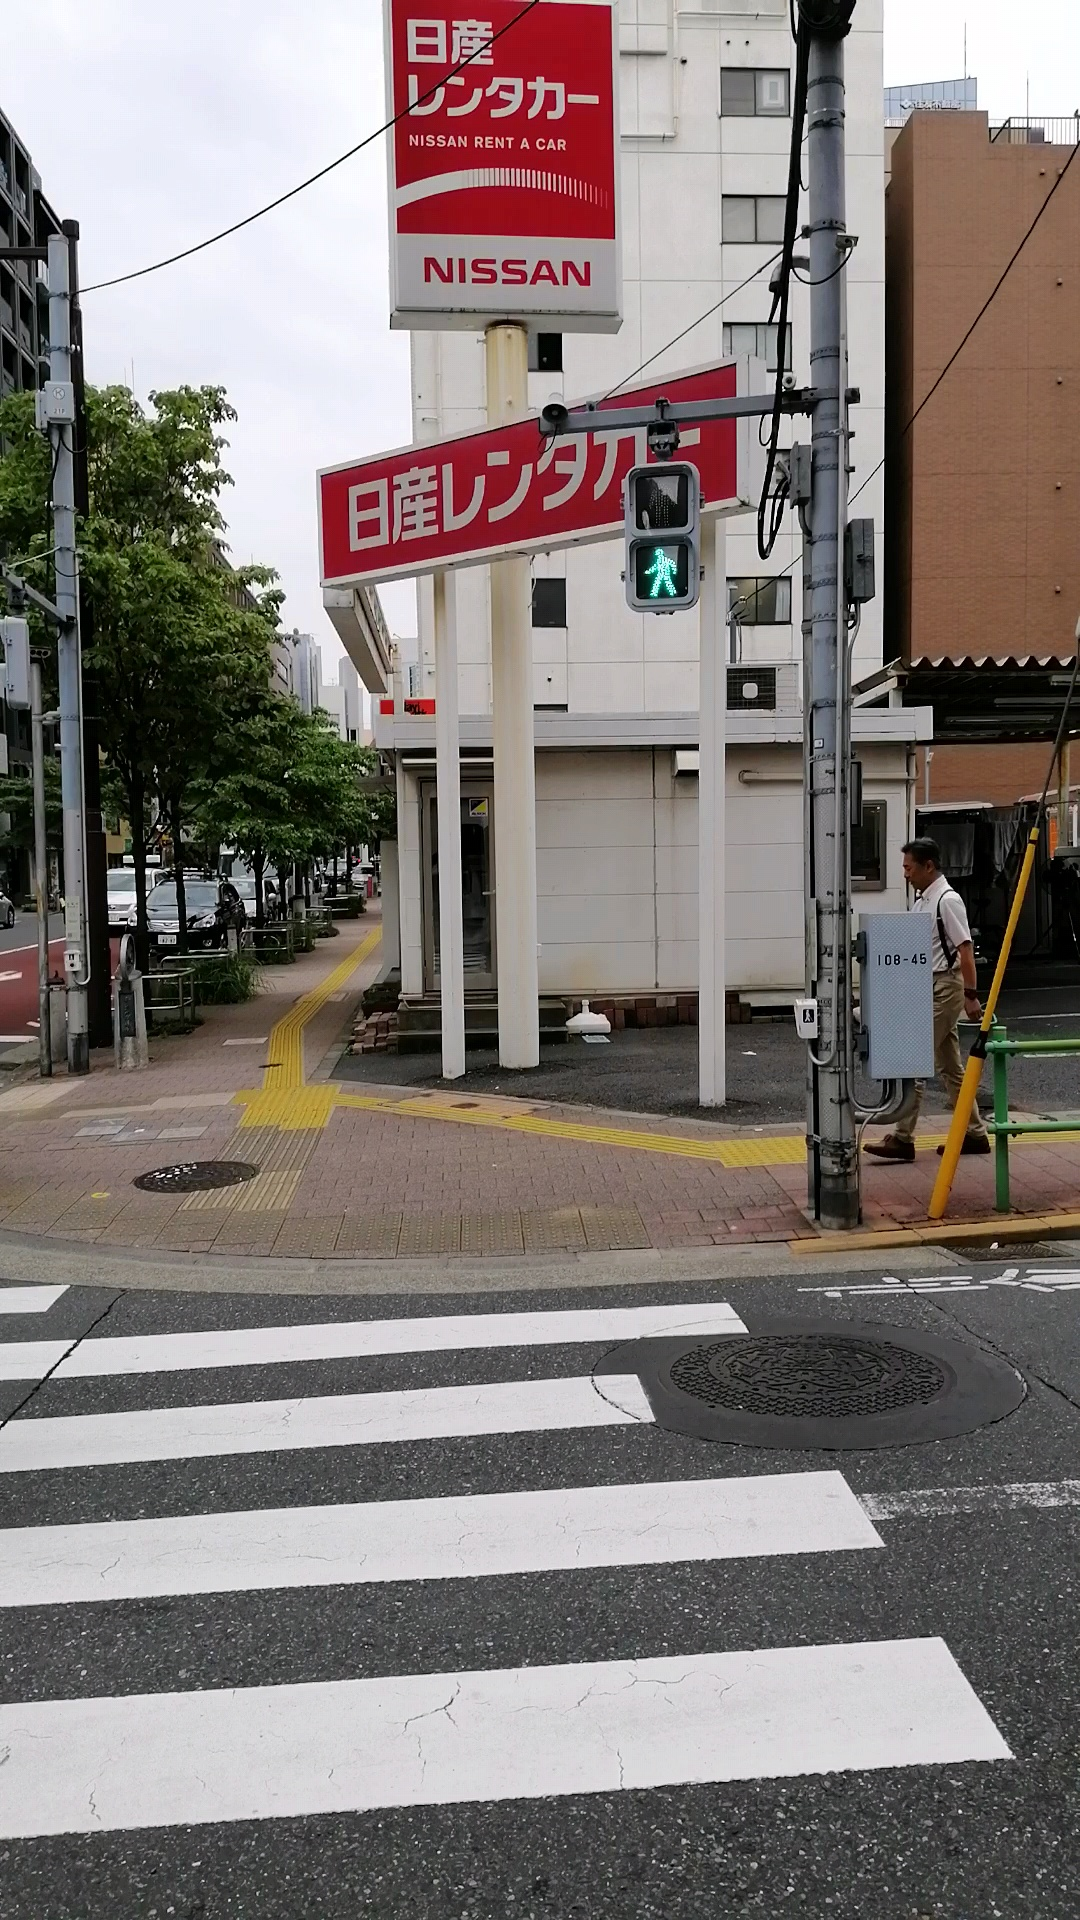green: (625, 459, 699, 613)
